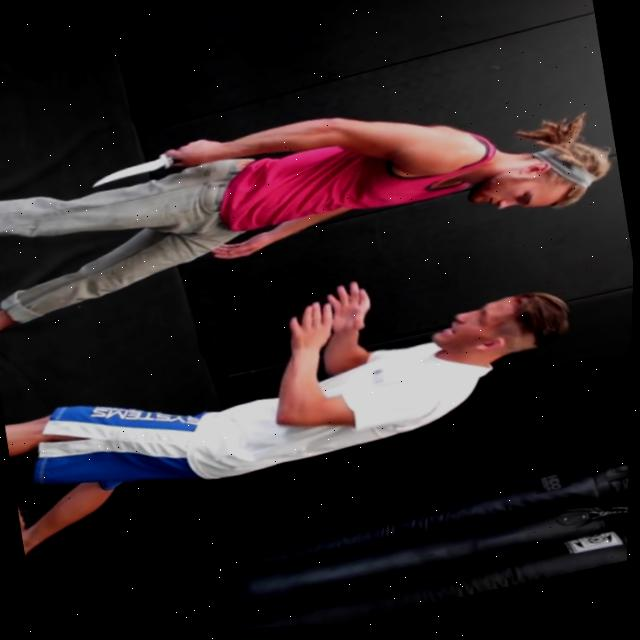knife: (88, 149, 185, 188)
